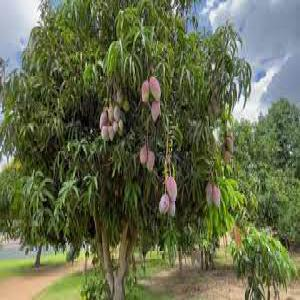Tree: (0, 0, 249, 298)
